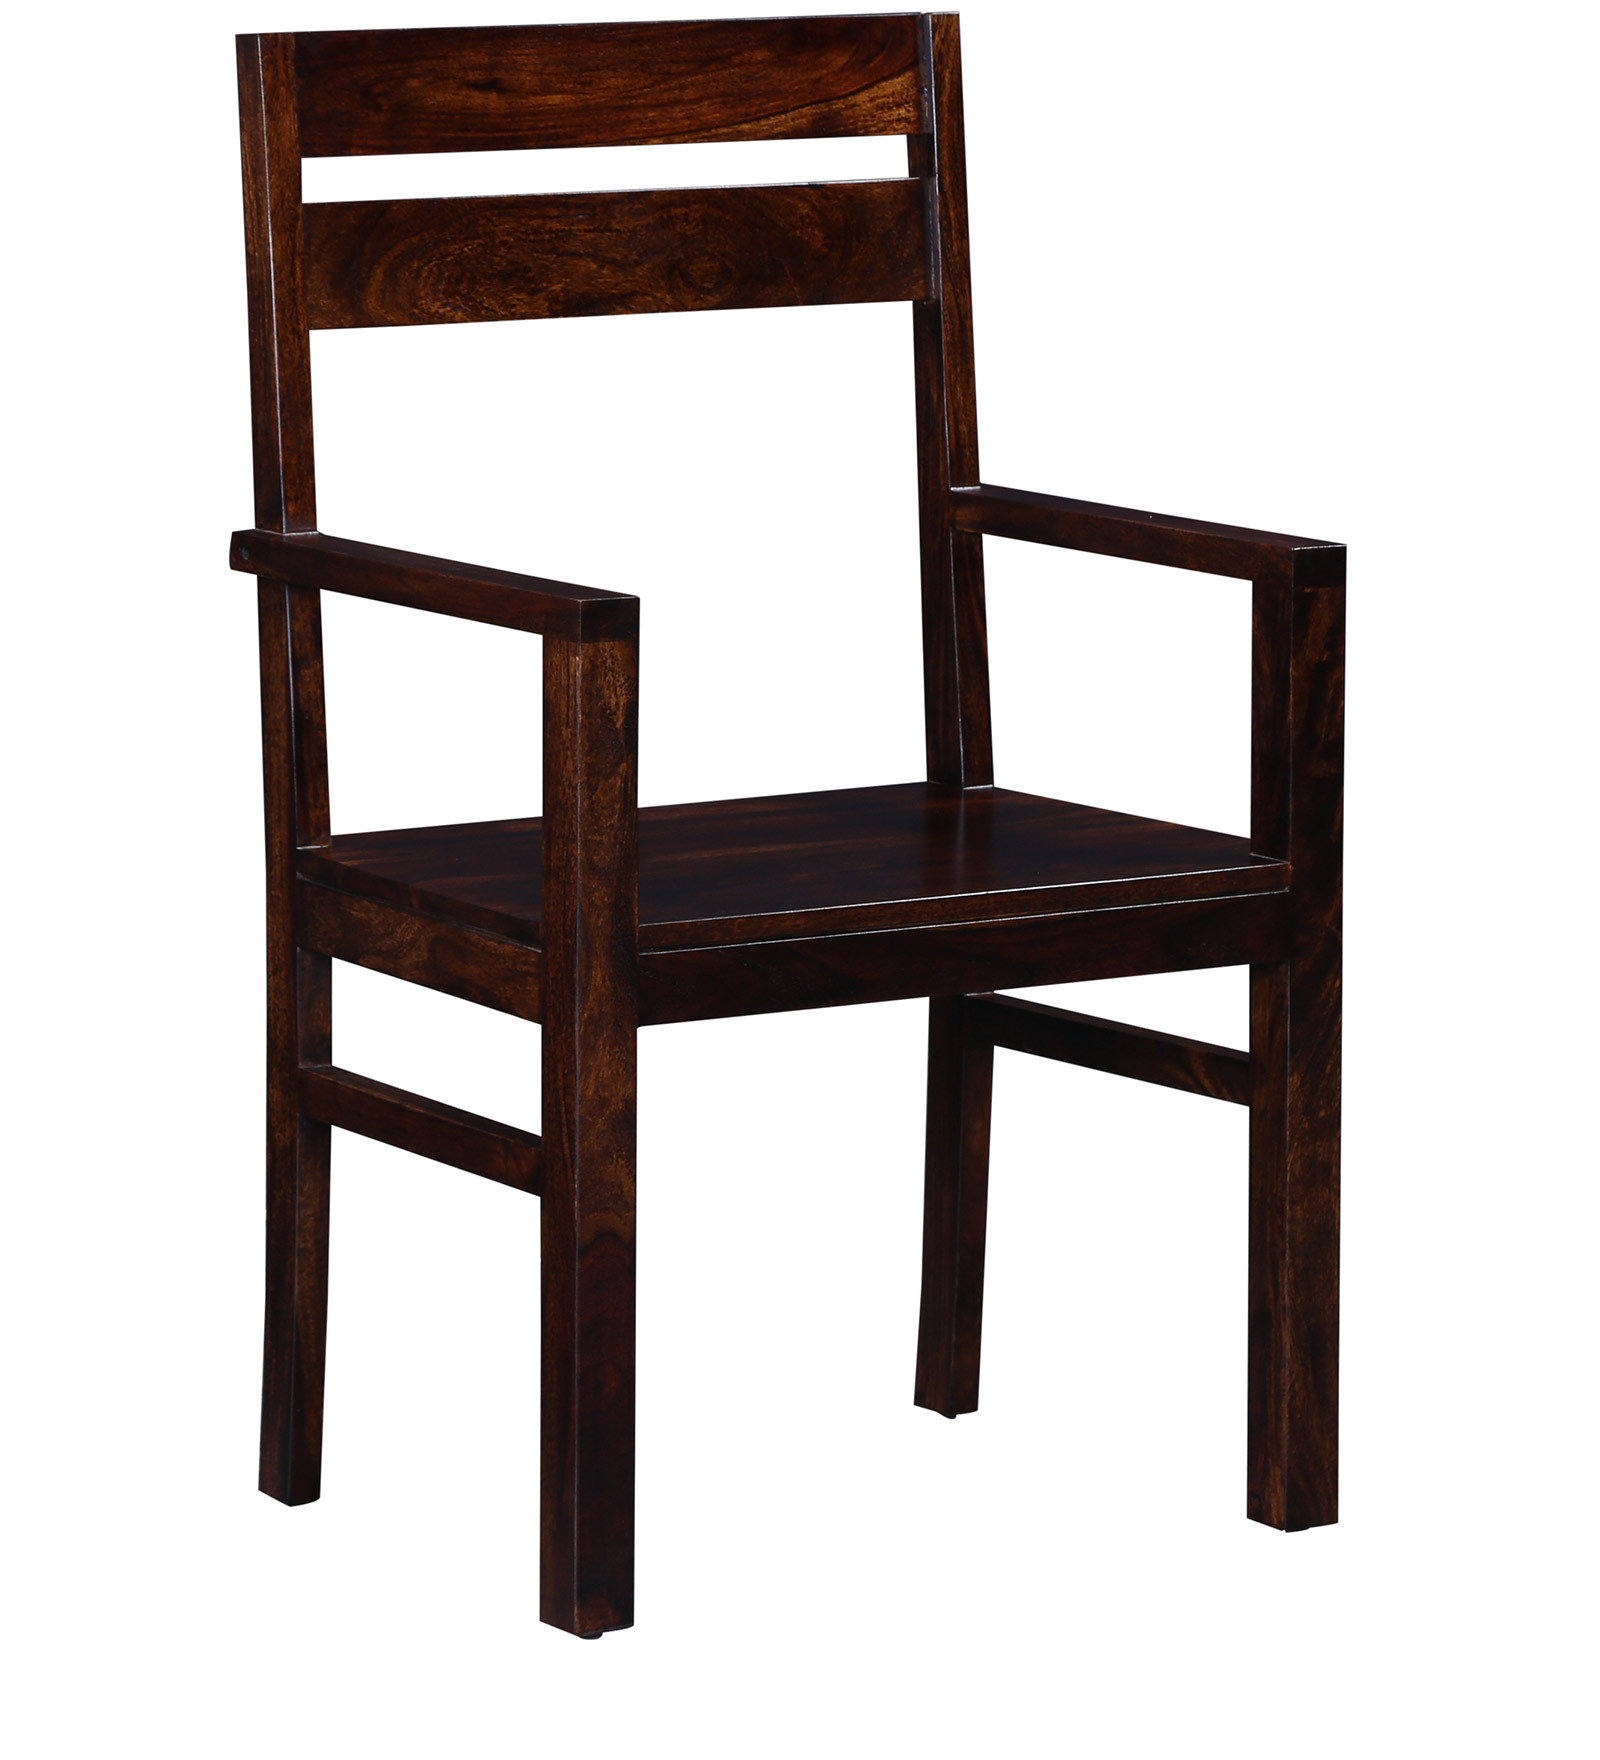Enkel Arm Chair in Provincial Teak Finish by Woodsworth: (159, 15, 1404, 1647)
